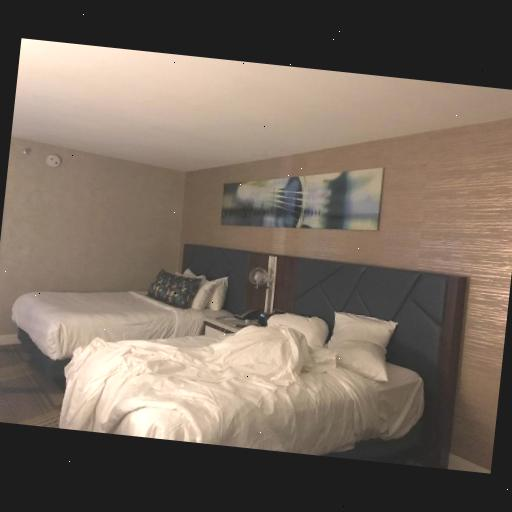Disorganized_pillow: (264, 310, 395, 377)
clean_bed: (12, 242, 268, 378)
messy_bed: (58, 257, 461, 474)
organised_pillow: (150, 264, 226, 314)
